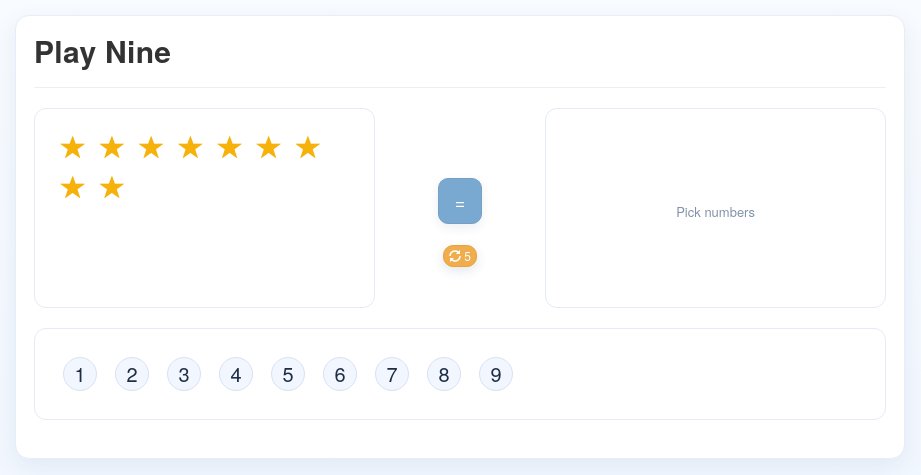
Game › clears the wrong-answer state when the selection changes
Click the button "1" at (80, 374), box [63, 357, 97, 391]
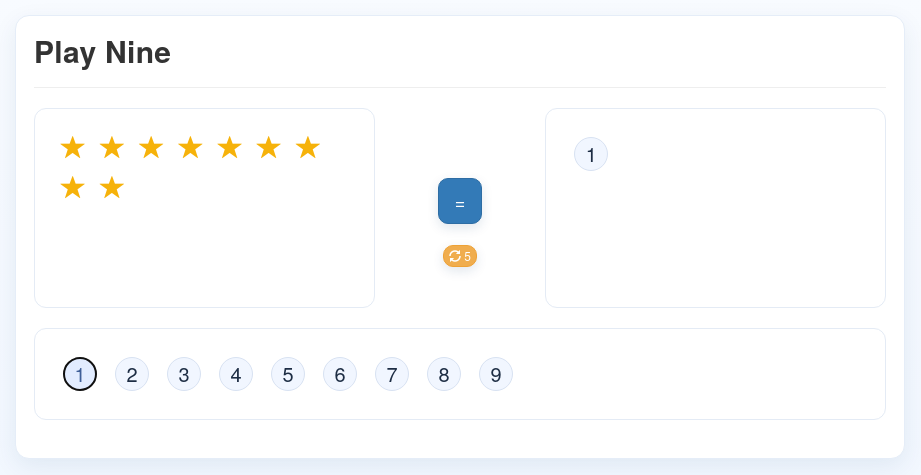
Click the button named "Check answer" at (460, 201), box [438, 178, 482, 224]
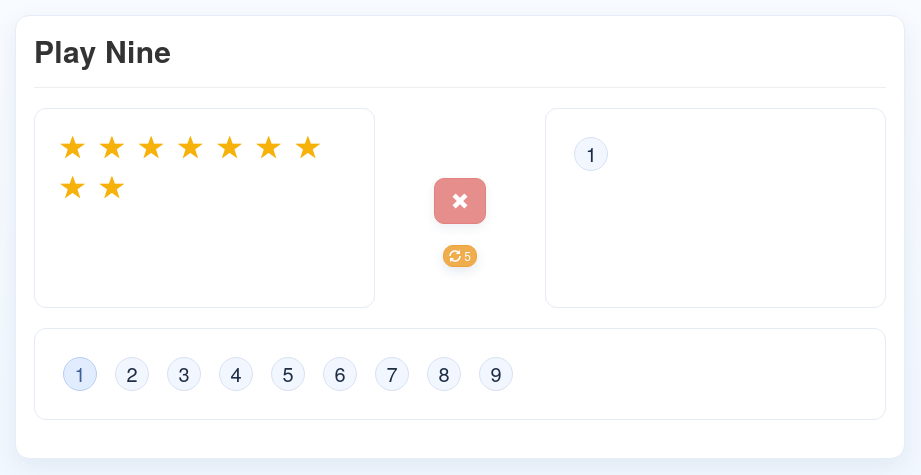
Result: the button named "Wrong answer" is shown at [434, 178, 486, 224]
Click the button "2" at (132, 374), box [115, 357, 149, 391]
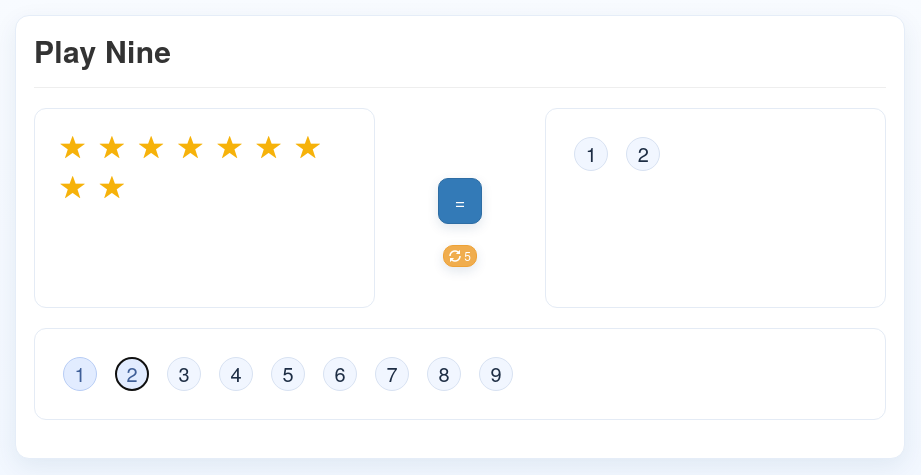
Result: the button named "Check answer" is enabled at [438, 178, 482, 224]
